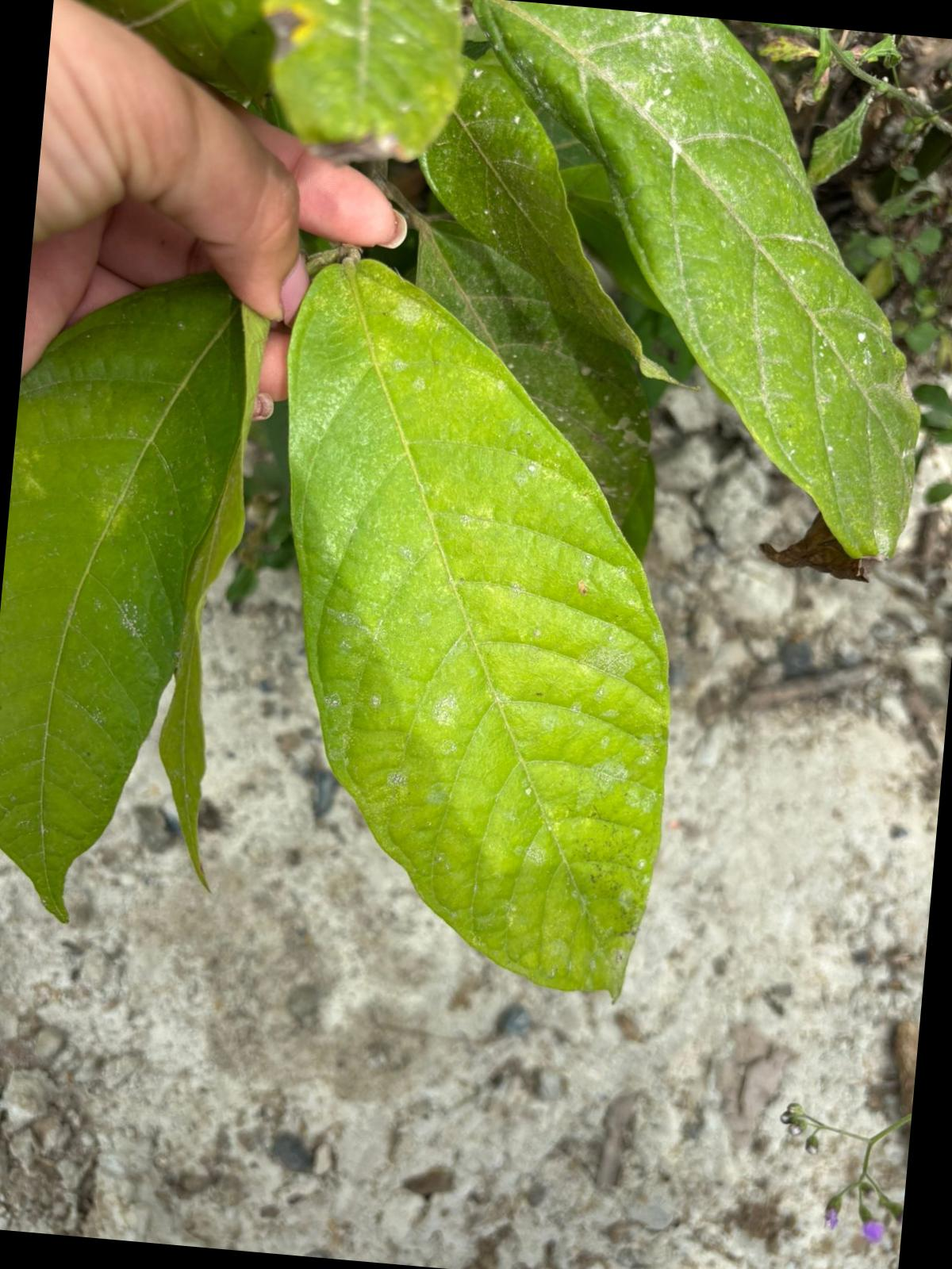Nitrogeno: (290, 260, 668, 995)
